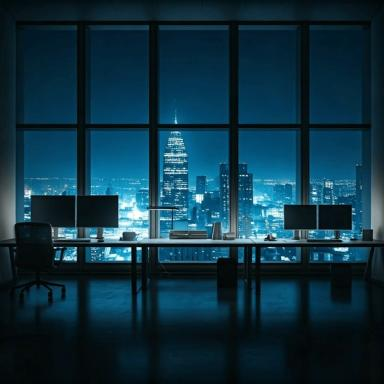glass_panel: (158, 129, 228, 261), (238, 129, 300, 262), (86, 129, 148, 261), (308, 130, 366, 261), (158, 26, 228, 124), (24, 130, 76, 260), (86, 25, 148, 123), (239, 25, 300, 123), (309, 26, 370, 124), (16, 25, 76, 123)
